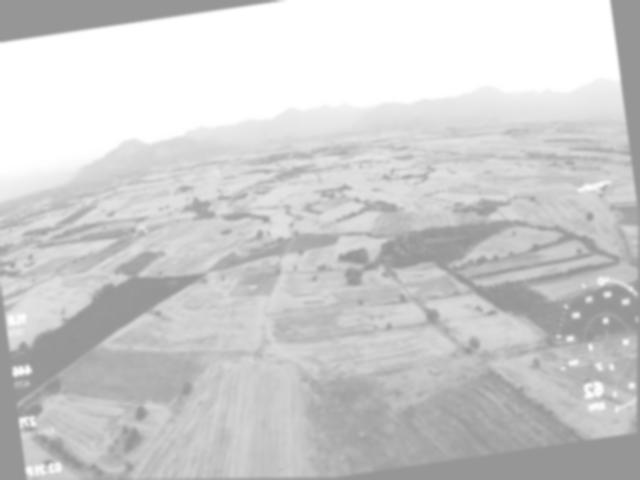hedef: (574, 174, 619, 204)
